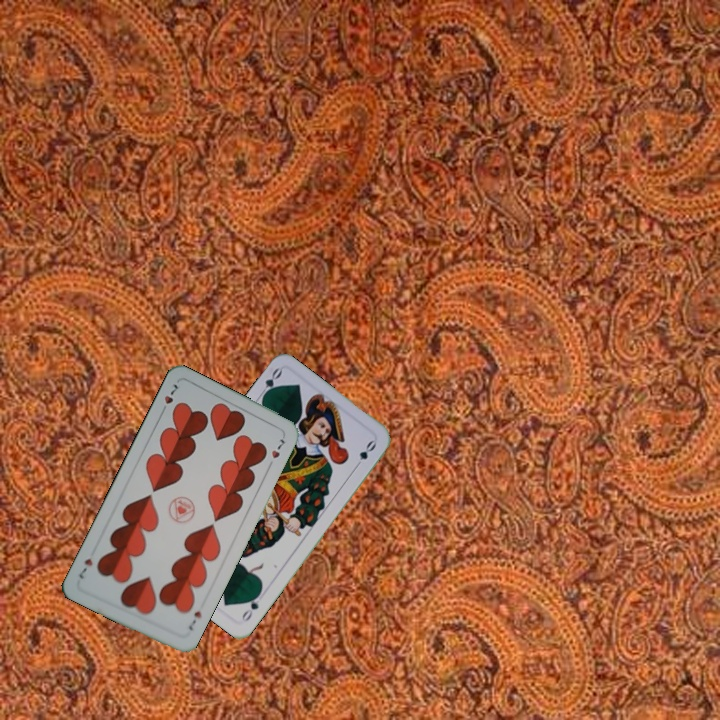GO: (254, 364, 285, 402), (238, 587, 264, 624)
H7: (157, 379, 181, 417), (184, 607, 204, 633)
